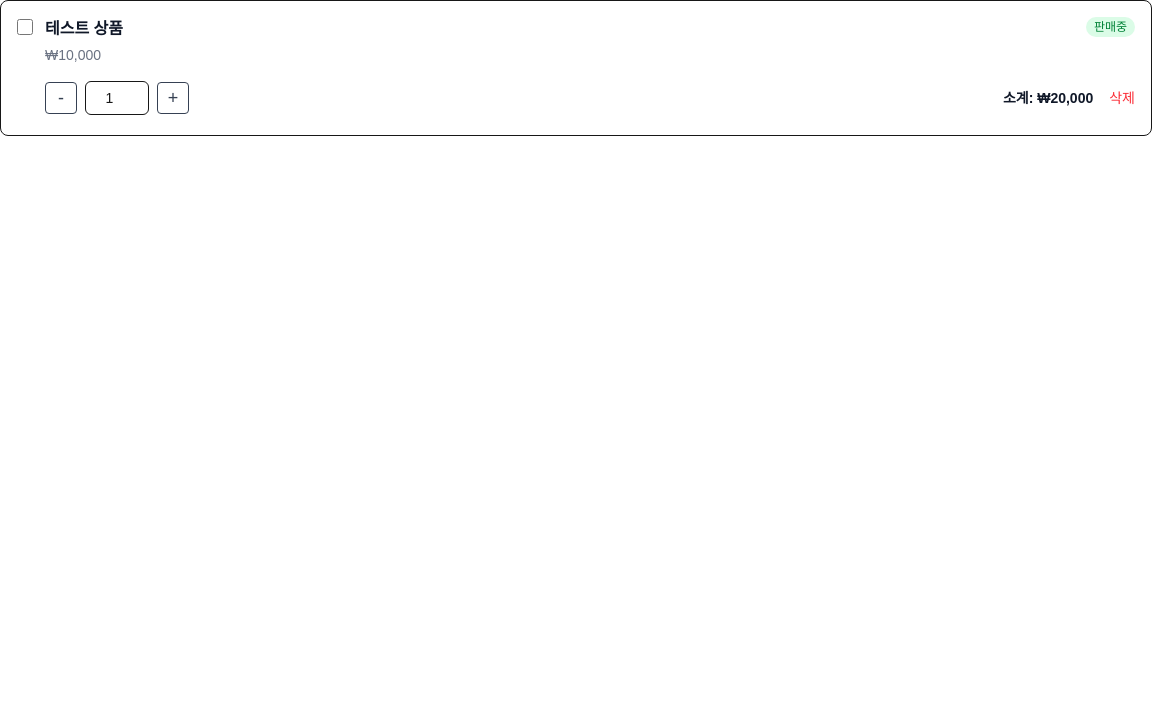
Scenario: CartItemRow › 수량 1에서 [-] 클릭 시 삭제 확인 다이얼로그가 표시된다
Click the button named "수량 감소": point(61, 98) [45,82,77,114]
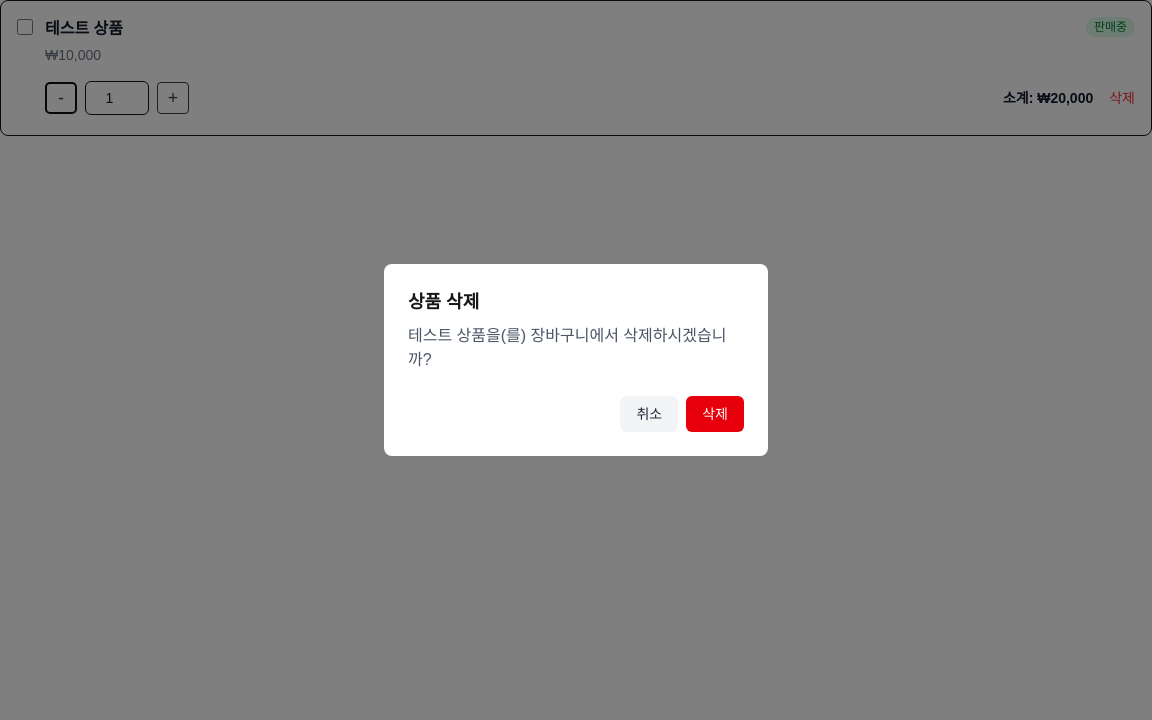
Expected: the heading "상품 삭제" is shown, [408,292,479,312]
